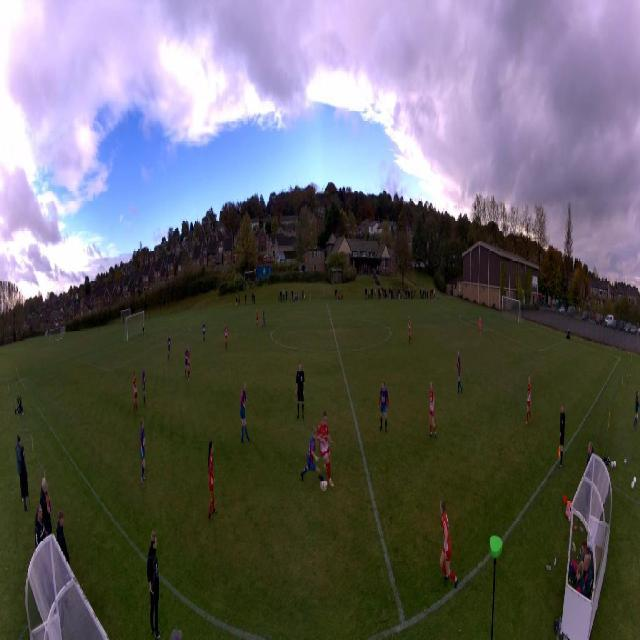ball: (320, 479, 328, 491)
player: (438, 498, 458, 589), (301, 426, 325, 484), (317, 410, 334, 487), (208, 441, 217, 519), (239, 381, 250, 443), (377, 381, 389, 432), (295, 362, 305, 420), (429, 380, 436, 438), (525, 377, 533, 427), (140, 417, 146, 483), (456, 351, 462, 396), (132, 370, 138, 412), (142, 364, 148, 403), (186, 348, 191, 379), (407, 316, 412, 343), (184, 346, 188, 378), (224, 323, 228, 349), (167, 334, 171, 360), (202, 322, 206, 344), (255, 310, 259, 329), (262, 309, 266, 328), (479, 315, 482, 335), (142, 320, 145, 337)
